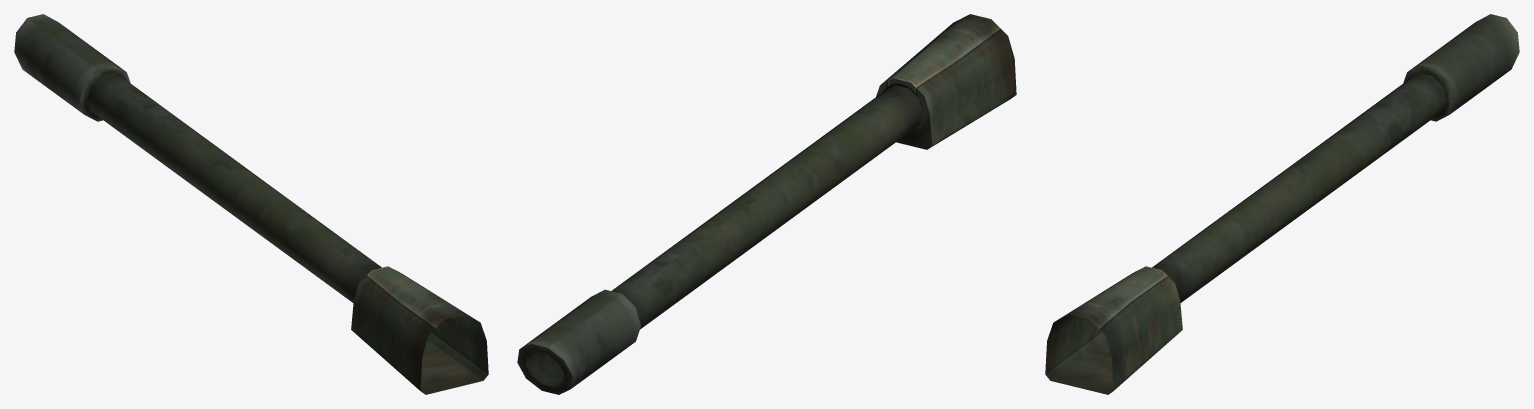
File: canon_bas.obj
3 renders of one model, left to right at view 1: azimuth 30°, elevation 25°; view 2: azimuth 150°, elevation 25°; view 3: azimuth 330°, elevation 25°, orthographic. The views are drawn at different scales.
Visible parts, largest first — view 1: submesh0; view 2: submesh0; view 3: submesh0.
Part boxes in pixels (x1,y1,x2,y2): submesh0: (14,14,488,394); submesh0: (517,14,1016,394); submesh0: (1045,14,1519,394).
Size of the model in its own units: 0.26 by 0.259 by 2.77.
1 material, 1 textured.
